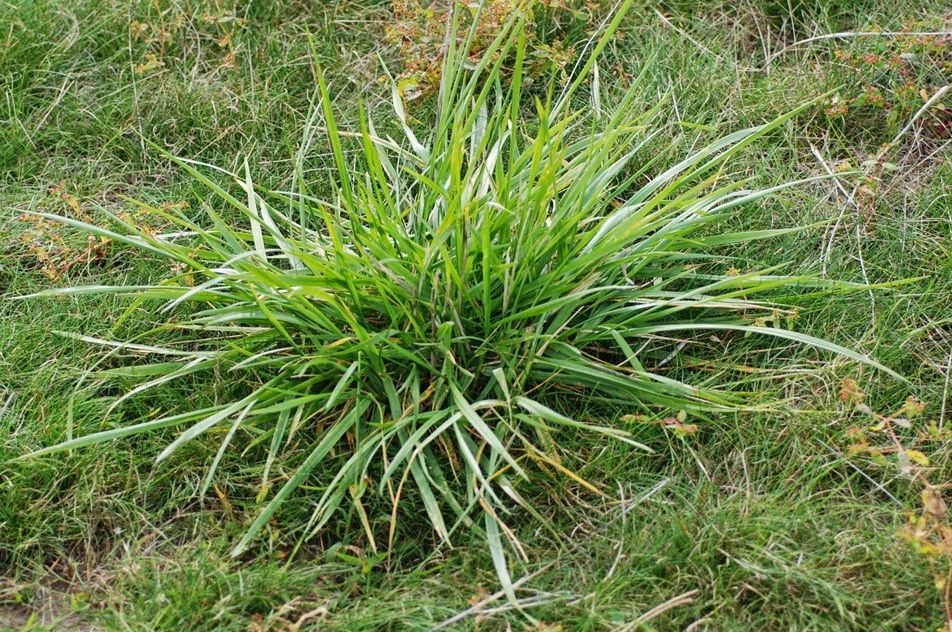crabgrass: (164, 146, 752, 536)
